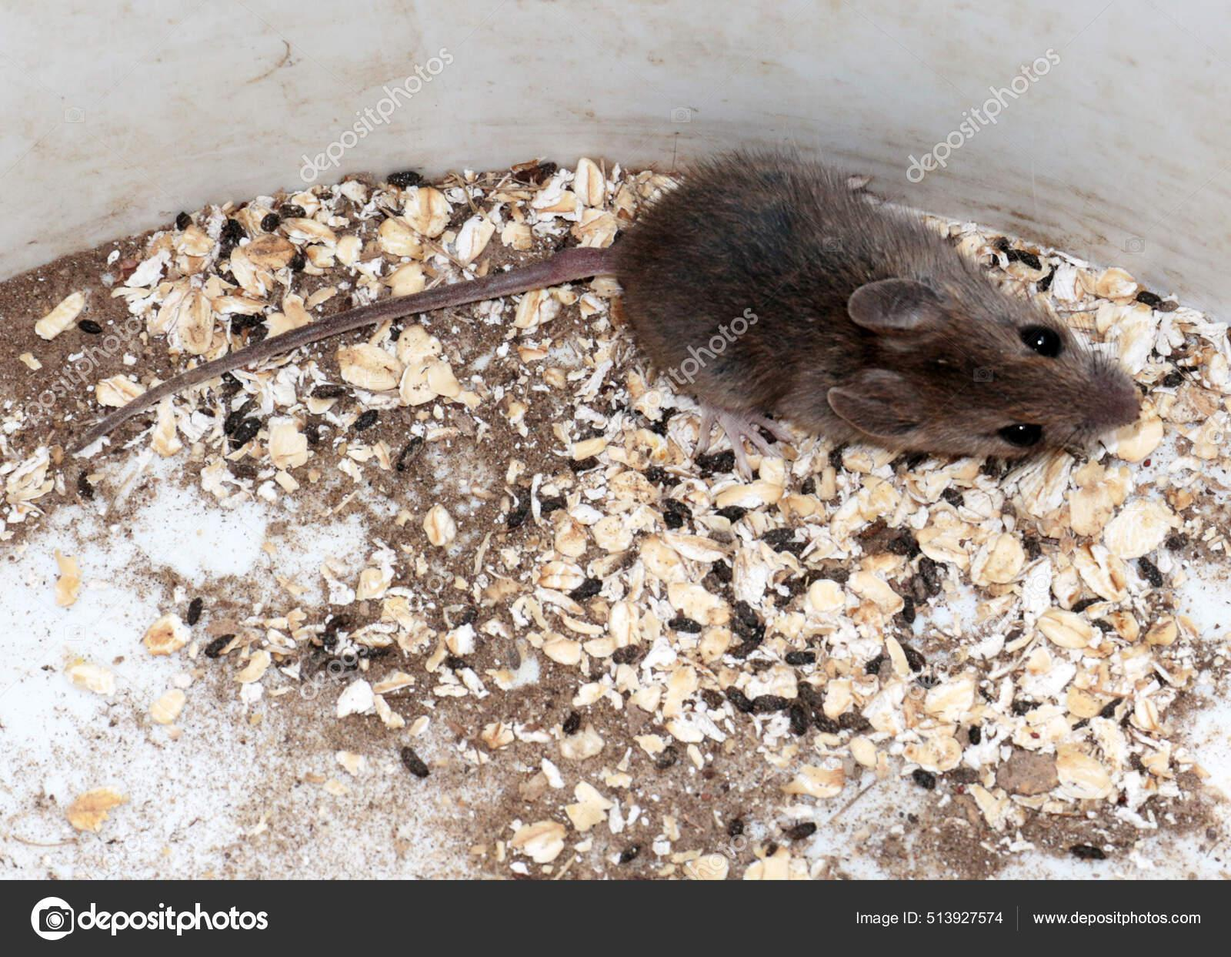rat: (55, 153, 1143, 460)
